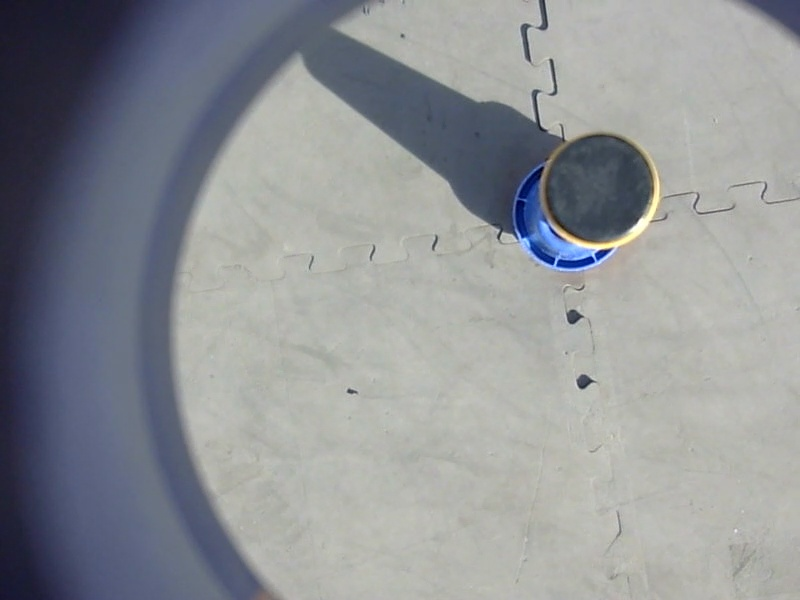tip: (534, 125, 669, 259)
